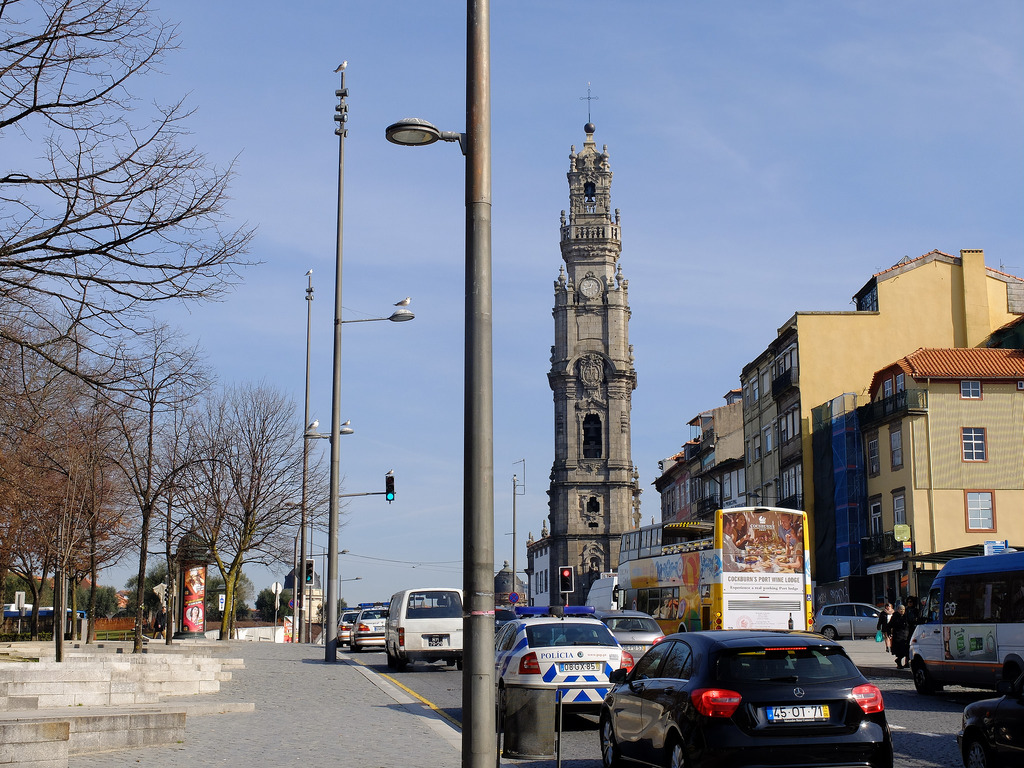clerigos: (545, 83, 641, 610)
